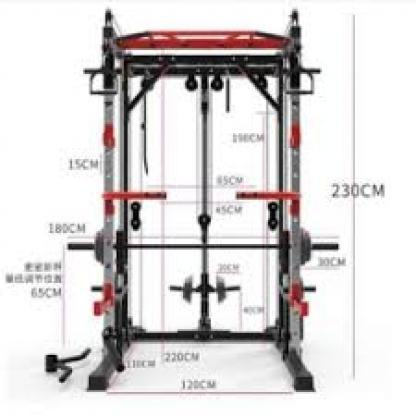smith machine: (83, 7, 340, 394)
